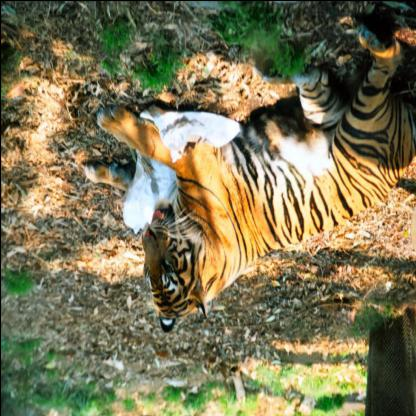tiger: (132, 192, 212, 320)
